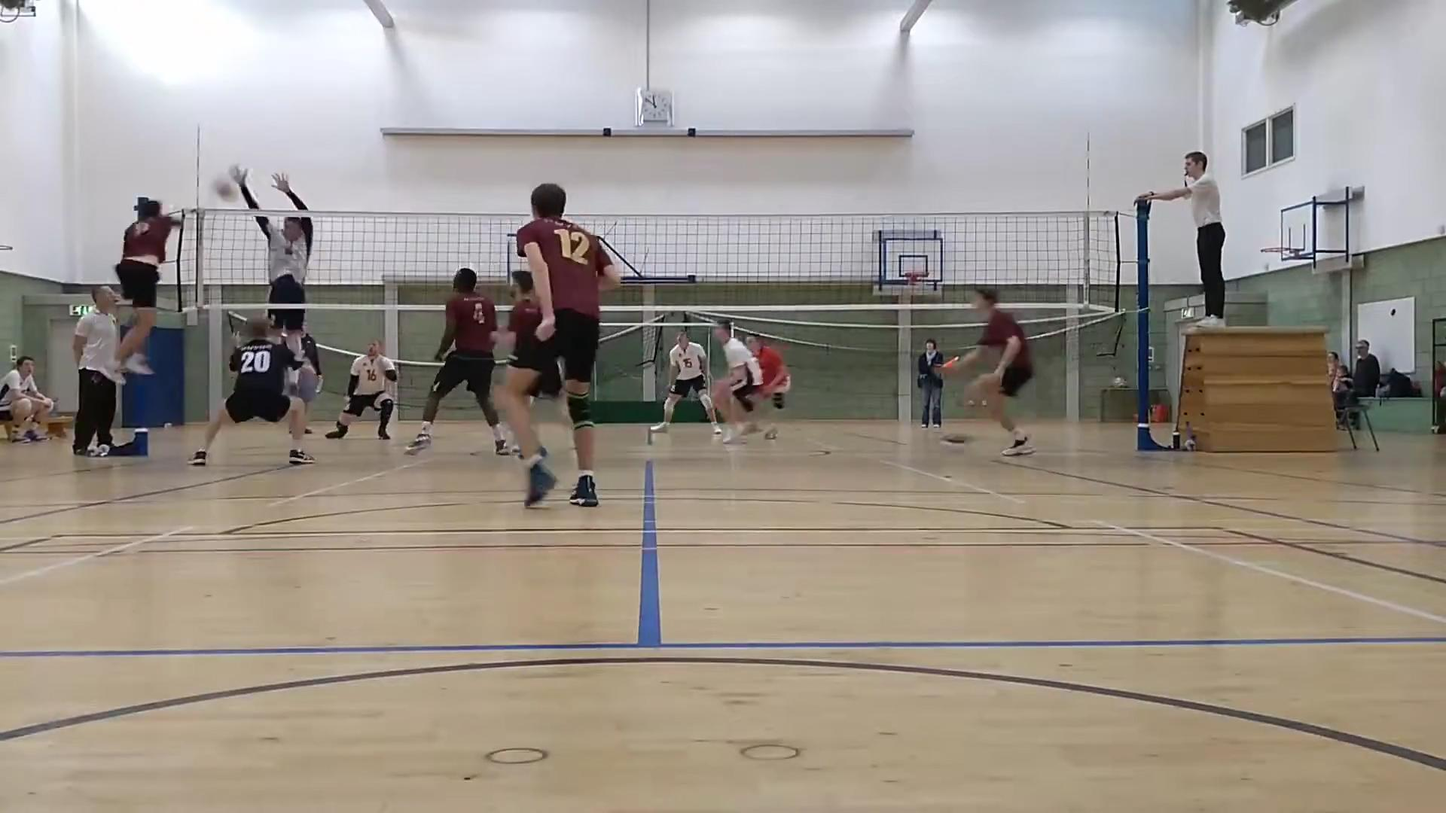Attack: (112, 184, 200, 381)
Block: (230, 156, 327, 391)
Player: (497, 184, 621, 506), (406, 267, 508, 455), (190, 316, 314, 465), (951, 288, 1034, 455), (650, 329, 721, 434), (325, 341, 397, 440), (714, 321, 761, 444), (499, 271, 541, 364), (746, 335, 790, 412), (296, 326, 322, 422)
ball: (212, 174, 242, 204)
